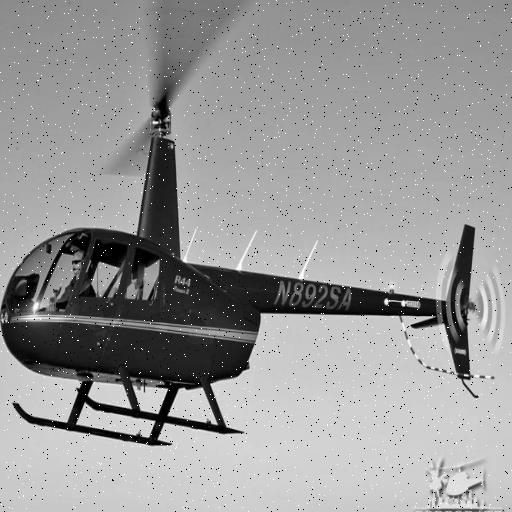helicopter: (1, 1, 497, 467)
